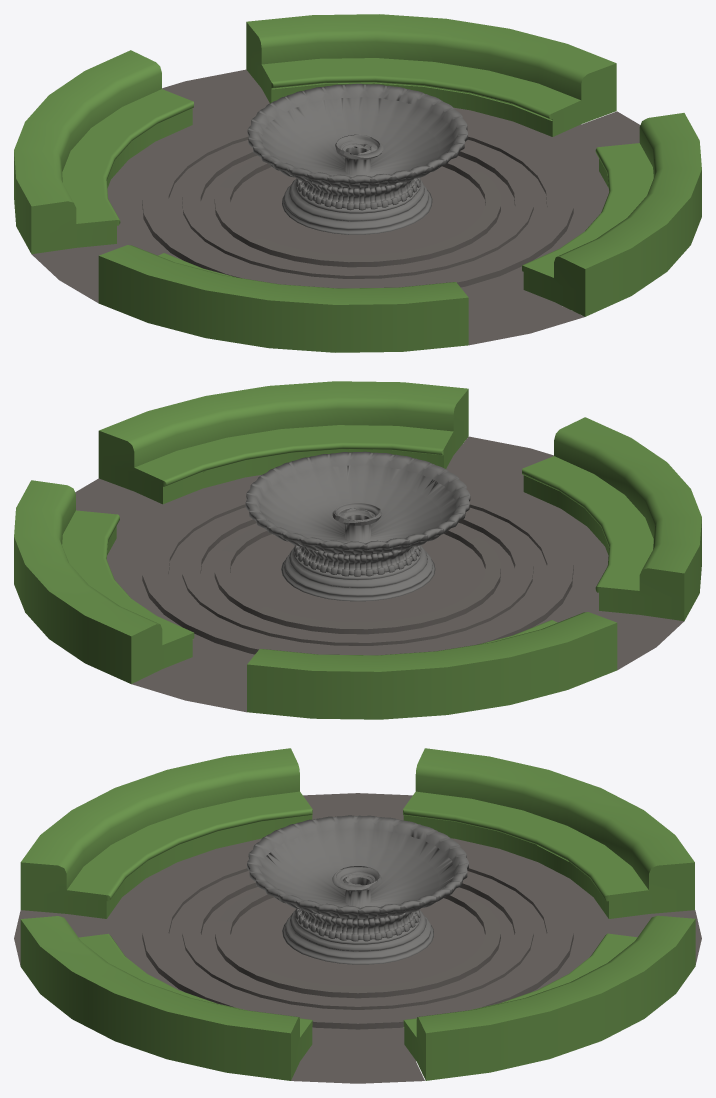
Rendered from Fountain.gltf.
3 renders of one model, top to bottom at view 1: azimuth 30°, elevation 25°; view 2: azimuth 150°, elevation 25°; view 3: azimuth 270°, elevation 25°, orthographic.
Parts seen in each view (by area): view 1: Fontain_1; view 2: Fontain_1; view 3: Fontain_1.
Part boxes in pixels (x1,y1,x2,y2): Fontain_1: [14, 14, 701, 352]; Fontain_1: [14, 381, 701, 719]; Fontain_1: [14, 748, 701, 1083].
Size of the model in its own units: 16.52 by 2.03 by 16.52.
3 materials, 3 textured.
